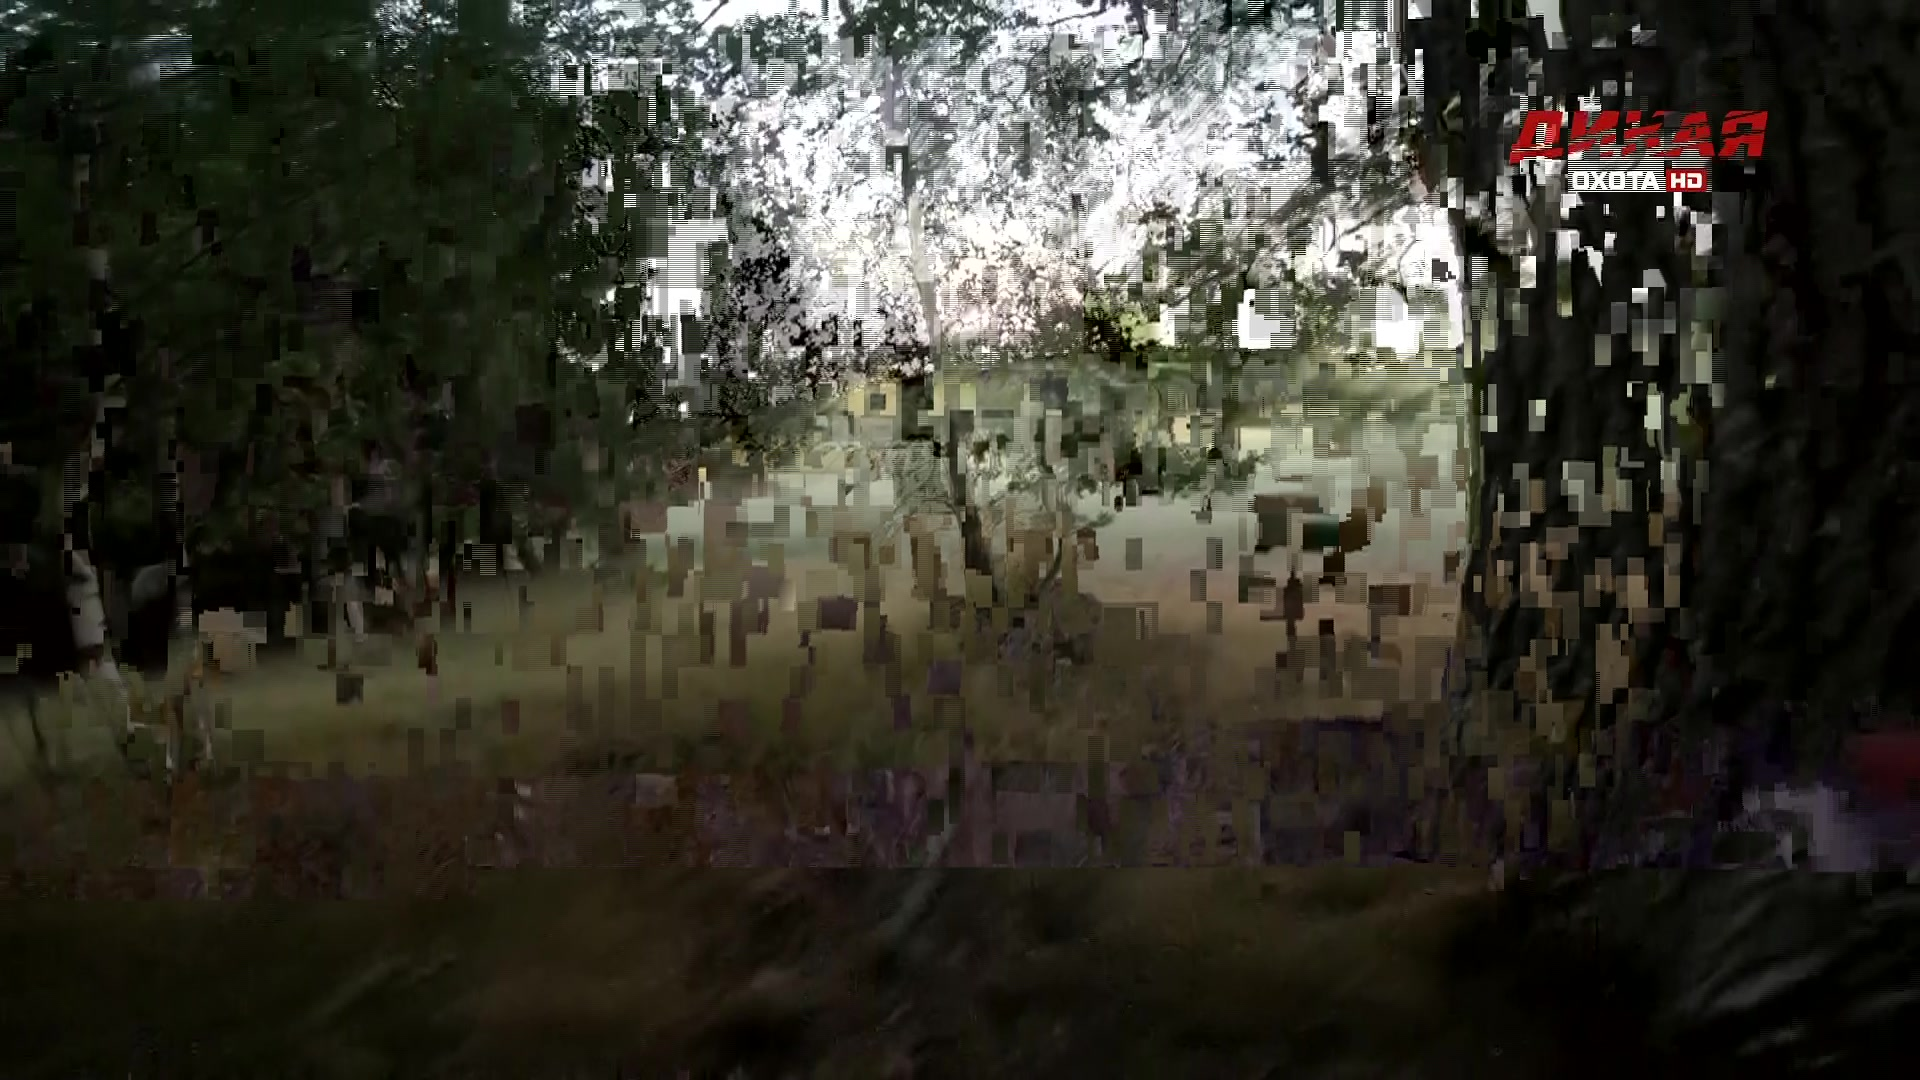Dikaya_Ohota_HD: (1503, 105, 1774, 194)
